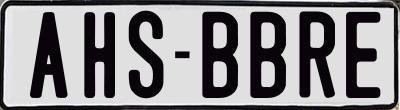A: (27, 11, 70, 102)
B: (248, 12, 288, 102), (200, 10, 240, 98)
E: (346, 10, 380, 99)
H: (83, 11, 118, 103)
R: (297, 8, 336, 100)
S: (128, 8, 169, 100)
